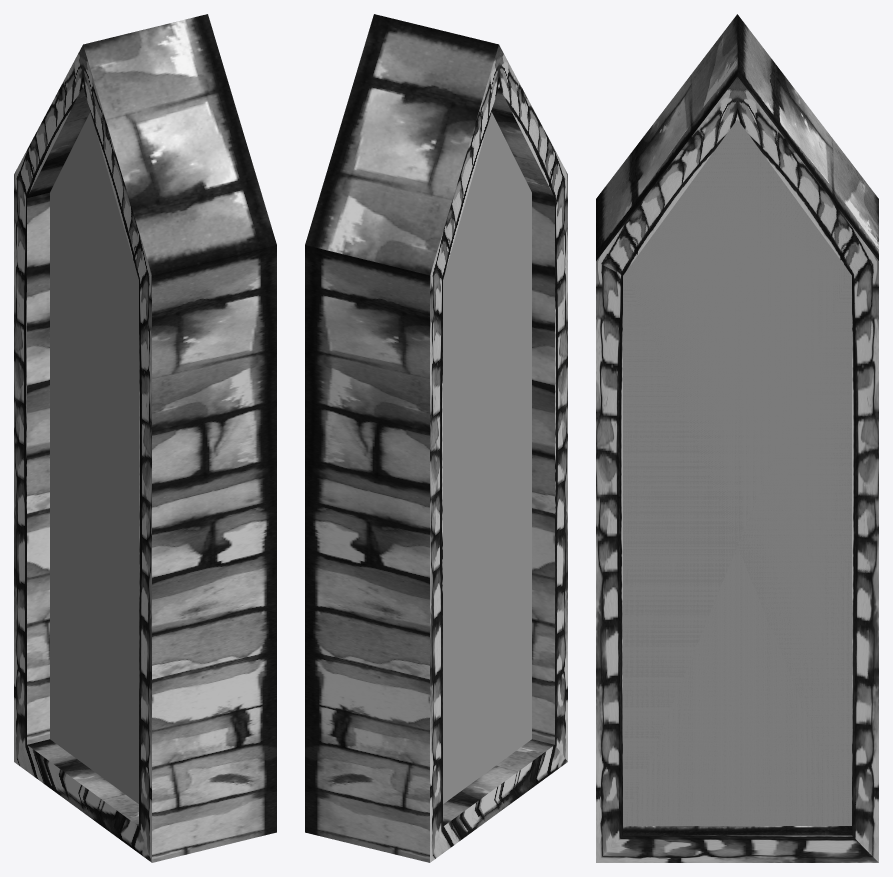
Rendered from ChurchWindow.fbx.
3 renders of one model, left to right at view 1: azimuth 30°, elevation 25°; view 2: azimuth 150°, elevation 25°; view 3: azimuth 270°, elevation 25°, orthographic. The views are drawn at different scales.
Visible parts, largest first — view 1: ChurchWindow1; view 2: ChurchWindow1; view 3: ChurchWindow1.
Part boxes in pixels (left/top/right/bottom): ChurchWindow1: left=14, top=14, right=276, bottom=862; ChurchWindow1: left=305, top=14, right=567, bottom=862; ChurchWindow1: left=596, top=14, right=878, bottom=862.
Size of the model in its own units: 1.53 by 8.98 by 2.93.
